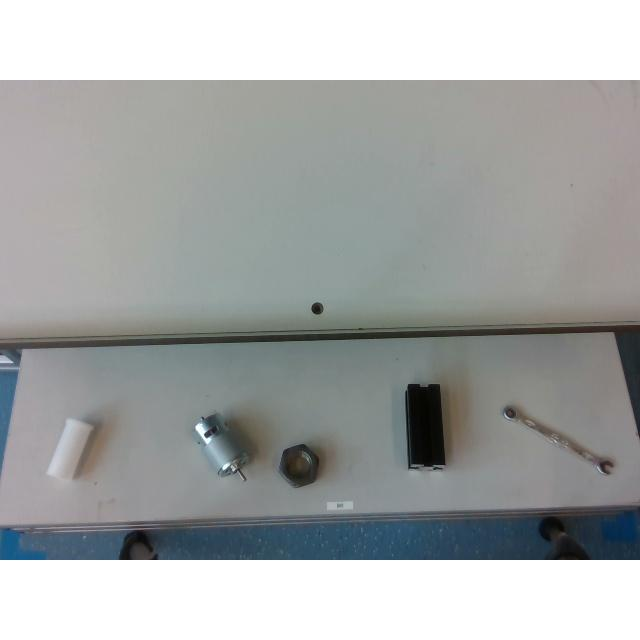M30: (278, 444, 318, 488)
Motor2: (194, 414, 250, 482)
S40_40_B: (406, 383, 446, 469)
Spacer: (46, 418, 94, 480)
Wrench: (501, 404, 615, 476)
